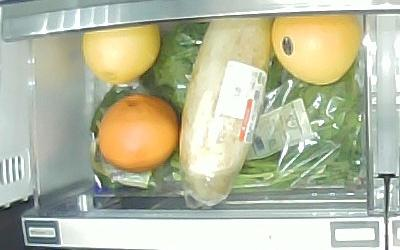grapefruit: (99, 94, 180, 174), (272, 14, 362, 85), (82, 23, 162, 84)
